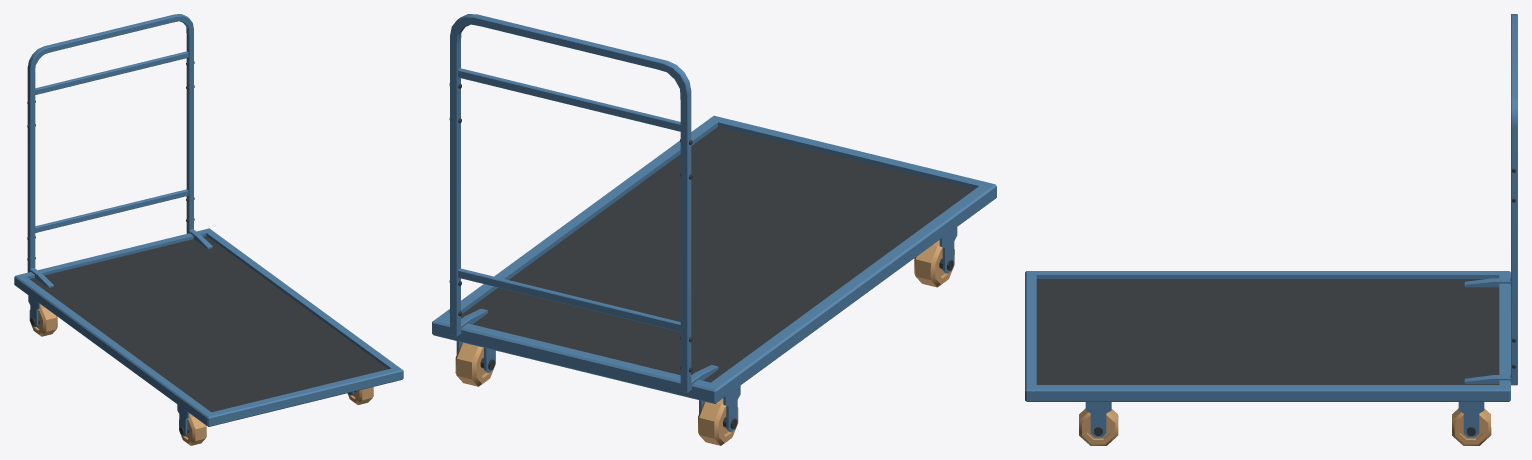
The model's file is car_11.gltf.
3 views of the same model, side by side, from view 1: azimuth 30°, elevation 25°; view 2: azimuth 150°, elevation 25°; view 3: azimuth 270°, elevation 25° (orthographic). The views are drawn at different scales.
Visible parts, largest first — view 1: body; view 2: body; view 3: body.
Part boxes in pixels (x1=…): body: x1=14, y1=14, x2=403, y2=445; body: x1=432, y1=14, x2=996, y2=445; body: x1=1025, y1=14, x2=1517, y2=444.
Bounding box in the file's own units: 1.26 × 1.65 × 2.19.
Materials: 1 (1 with a texture image).
